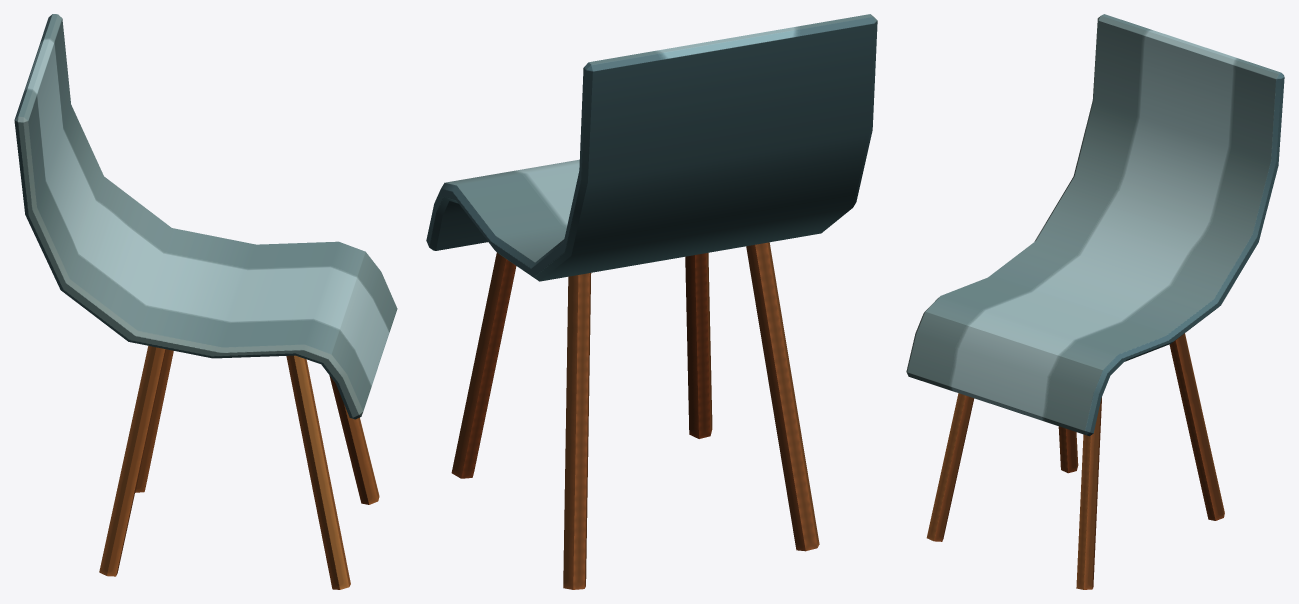
File: Chair.fbx
3 renders of one model, left to right at view 1: azimuth 30°, elevation 25°; view 2: azimuth 150°, elevation 25°; view 3: azimuth 270°, elevation 25°, orthographic. The views are drawn at different scales.
Visible parts, largest first — view 1: pCube111; view 2: pCube111; view 3: pCube111.
Boxes of the visible parts, left/top/right/bottom form: pCube111: left=14, top=14, right=397, bottom=589; pCube111: left=426, top=14, right=877, bottom=589; pCube111: left=906, top=14, right=1284, bottom=589.
Bounding box in the file's own units: 29.19 × 34.68 × 28.06.
Materials: 1 (1 with a texture image).
